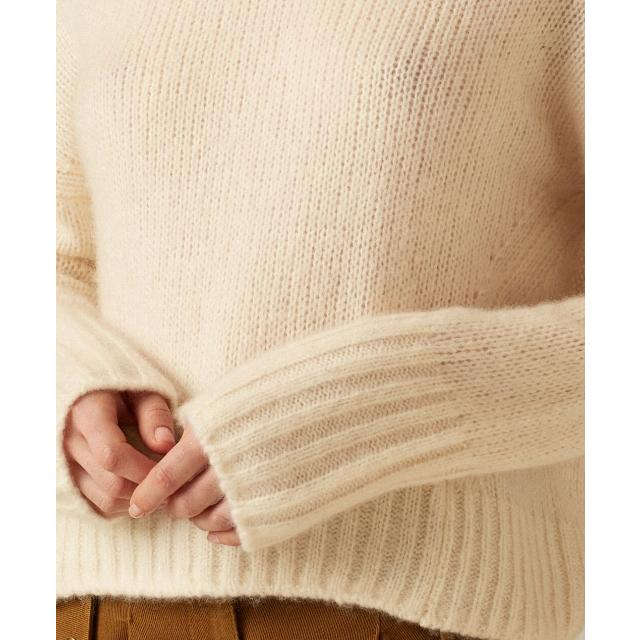wool: (56, 0, 584, 634)
